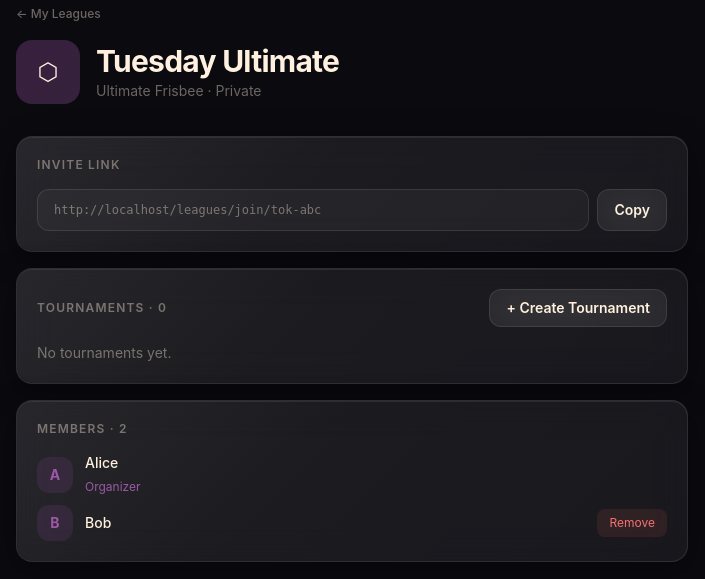
Scenario: LeagueDetailPage — Members › reloads members after a successful removal
Click the button with aria-label "remove bob" at [632, 523], box top-left (598, 509), bottom-right (667, 537)
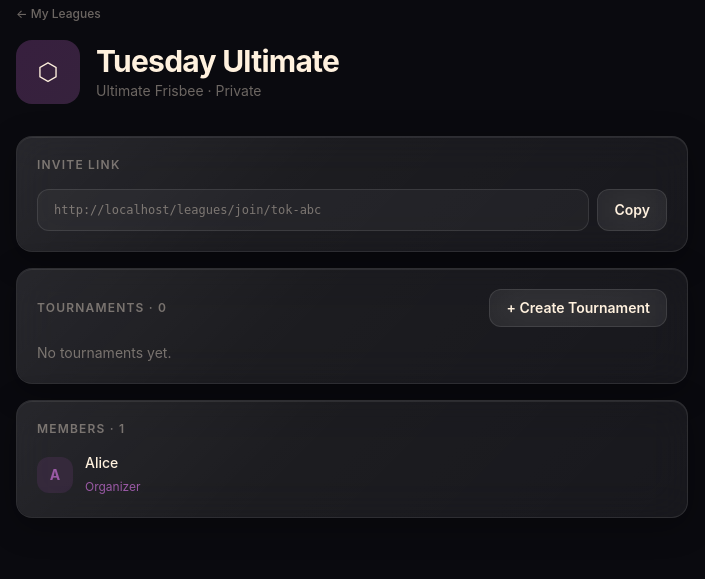
Expected: the text "Bob" is gone
